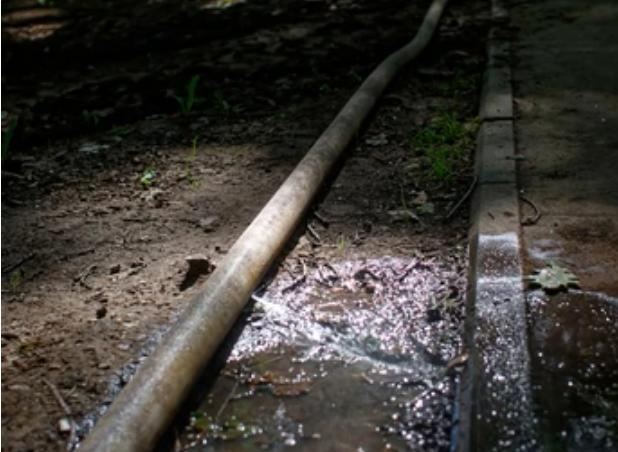pipe burst: (245, 291, 287, 313)
water accumulation: (76, 239, 618, 452)
